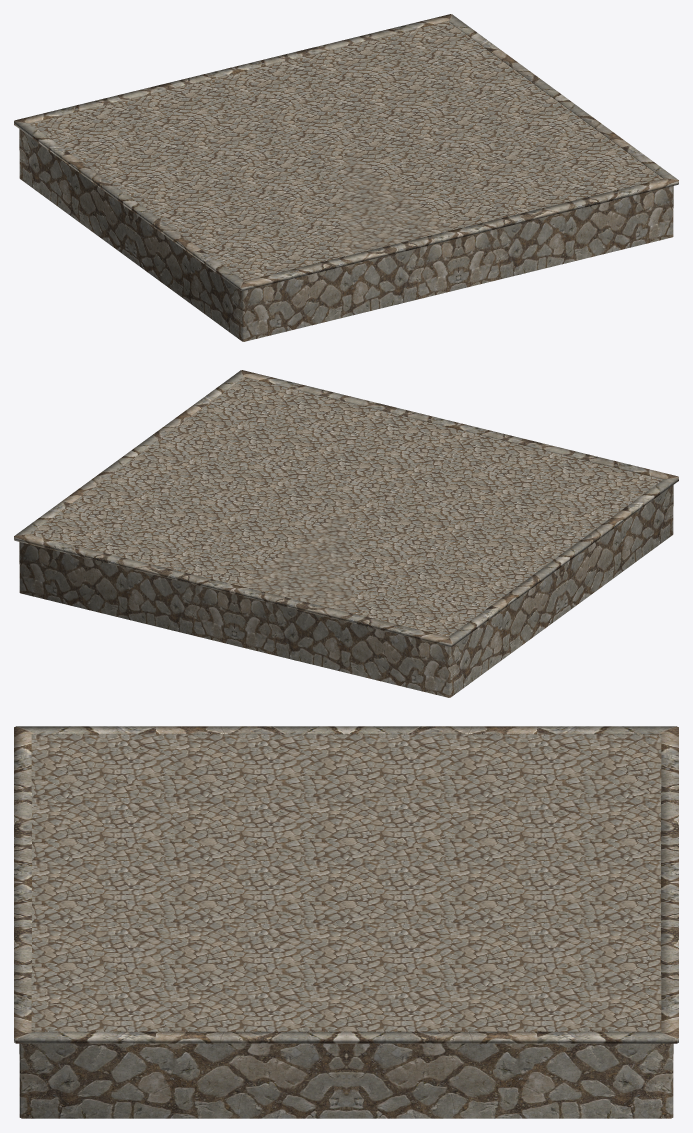
Rendered from Tile22.fbx.
The picture shows the model from 3 angles, top to bottom: view 1: azimuth 30°, elevation 25°; view 2: azimuth 150°, elevation 25°; view 3: azimuth 270°, elevation 25°; orthographic projection. The views are drawn at different scales.
Visible parts, largest first — view 1: LV_Bugara_Village_Floor01_SM_JJH; view 2: LV_Bugara_Village_Floor01_SM_JJH; view 3: LV_Bugara_Village_Floor01_SM_JJH.
Part boxes in pixels (x1,y1,x2,y2): LV_Bugara_Village_Floor01_SM_JJH: (14,14,678,341); LV_Bugara_Village_Floor01_SM_JJH: (14,370,678,697); LV_Bugara_Village_Floor01_SM_JJH: (14,726,678,1118).
Size of the model in its own units: 4.01 by 0.4974 by 3.62.
2 materials, 2 textured.
